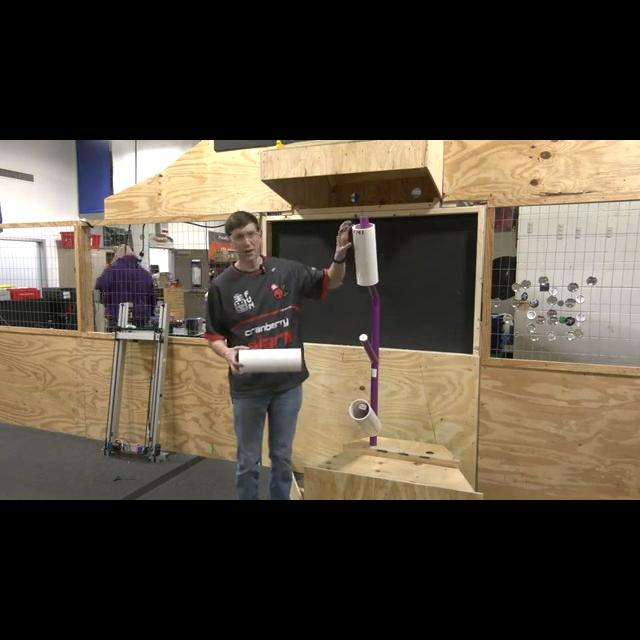CORAL: (351, 216, 379, 286), (238, 346, 302, 374), (348, 399, 382, 436)
